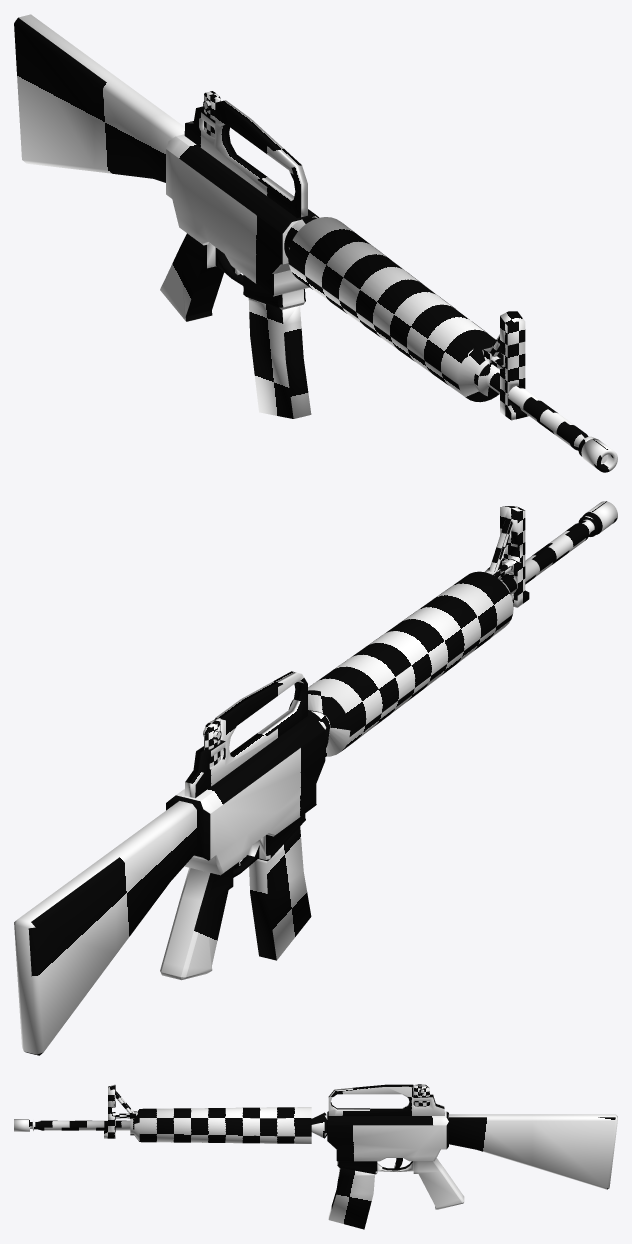
3 views of the same model, one above another, from view 1: azimuth 30°, elevation 25°; view 2: azimuth 150°, elevation 25°; view 3: azimuth 270°, elevation 25° (orthographic). The views are drawn at different scales.
Parts seen in each view (by area): view 1: barrel, stock, base, mag, round scope base thingy, point; view 2: stock, base, barrel, mag, round scope base thingy, point; view 3: stock, barrel, base, mag, round scope base thingy, point, scope base2.
Part boxes in pixels (left/top/right/bottom): barrel: left=284, top=217, right=617, bottom=472; stock: left=14, top=14, right=184, bottom=182; base: left=160, top=134, right=318, bottom=321; mag: left=248, top=298, right=311, bottom=418; round scope base thingy: left=184, top=100, right=307, bottom=218; point: left=482, top=311, right=528, bottom=420; stock: left=14, top=801, right=196, bottom=1055; base: left=160, top=715, right=325, bottom=980; barrel: left=288, top=501, right=617, bottom=756; mag: left=249, top=826, right=311, bottom=960; round scope base thingy: left=184, top=671, right=307, bottom=798; point: left=484, top=506, right=529, bottom=607; stock: left=448, top=1114, right=617, bottom=1189; barrel: left=14, top=1107, right=327, bottom=1143; base: left=327, top=1111, right=464, bottom=1209; mag: left=328, top=1168, right=374, bottom=1229; round scope base thingy: left=328, top=1084, right=444, bottom=1115; point: left=104, top=1084, right=137, bottom=1138; scope base2: left=413, top=1084, right=429, bottom=1106.
Bounding box in the file's own units: 0.28 × 1.19 × 4.57.
Materials: 1 (1 with a texture image).
